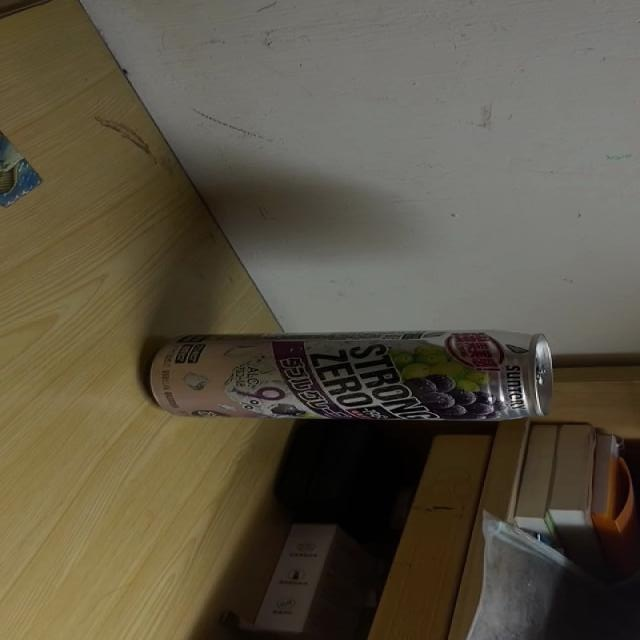Liquor: (146, 329, 555, 421)
